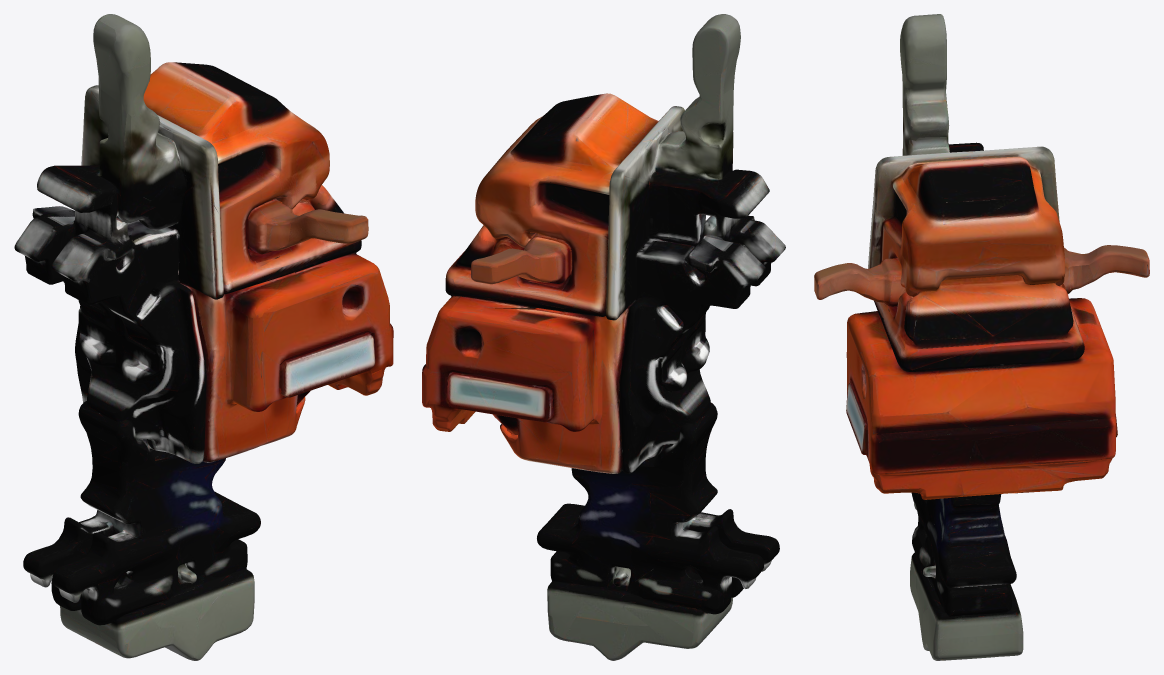
3 views of the same model, side by side, from view 1: azimuth 30°, elevation 25°; view 2: azimuth 150°, elevation 25°; view 3: azimuth 270°, elevation 25° (orthographic). The views are drawn at different scales.
Visible parts, largest first — view 1: 0; view 2: 0; view 3: 0.
Part boxes in pixels (<box>): 0: <box>14,14,393,660</box>; 0: <box>422,14,785,660</box>; 0: <box>814,14,1149,660</box>.
Size of the model in its own units: 0.1251 by 0.2477 by 0.1259.
Materials: 1 (1 with a texture image).
